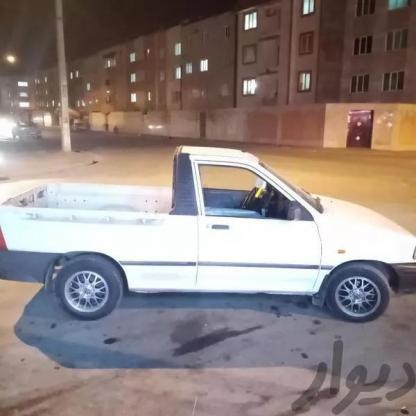Car: (0, 148, 416, 333), (9, 125, 41, 143)
